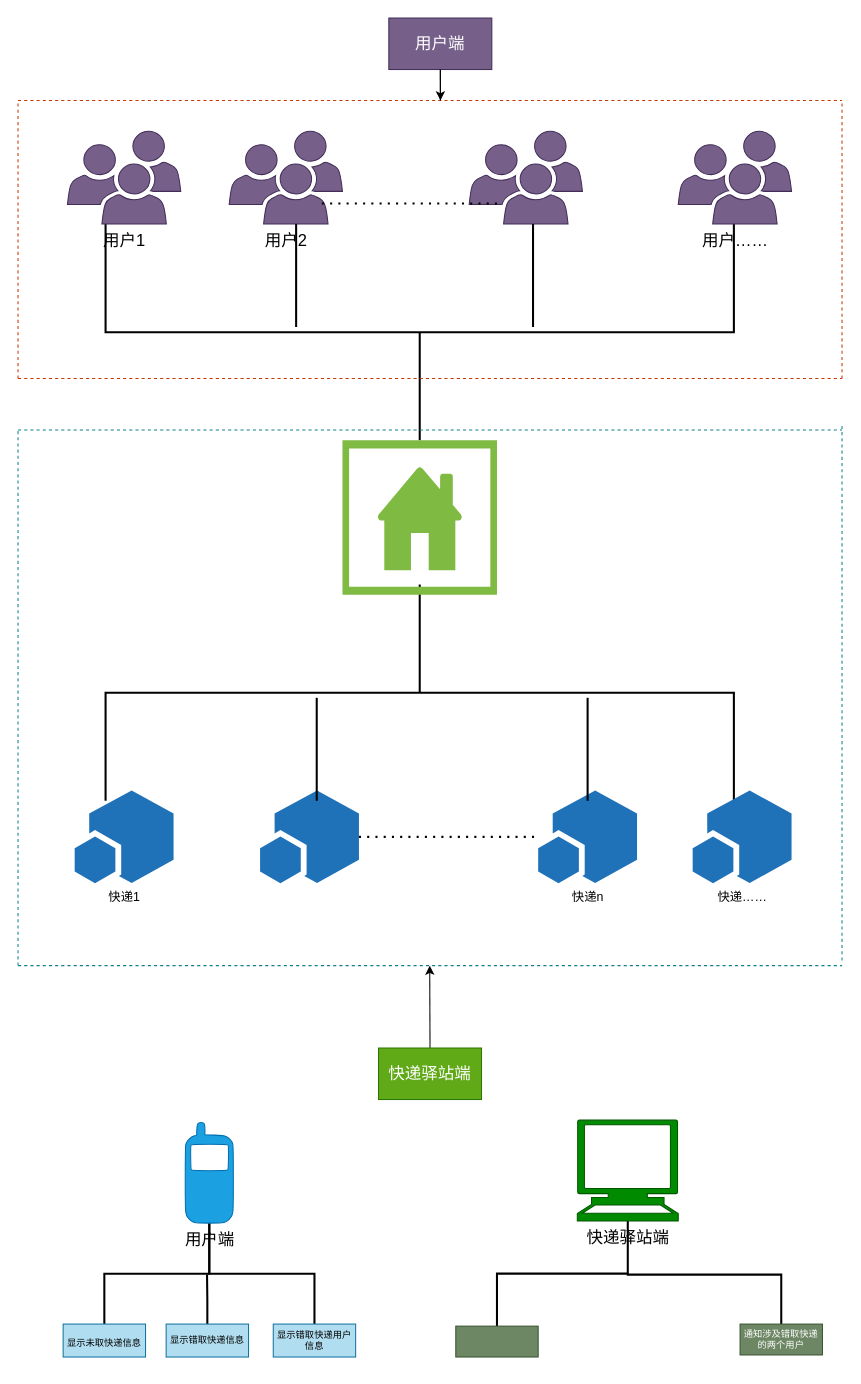
This 861x1384 diagram has some shape labels left out. The box of each missing label's shape, as (x1, y1, x2, y2) in pixels:
判断快递是否被错取: (455, 1325, 538, 1357)
快递2: (260, 790, 358, 883)
快递驿站: (342, 440, 496, 594)
用户n: (468, 130, 582, 224)
